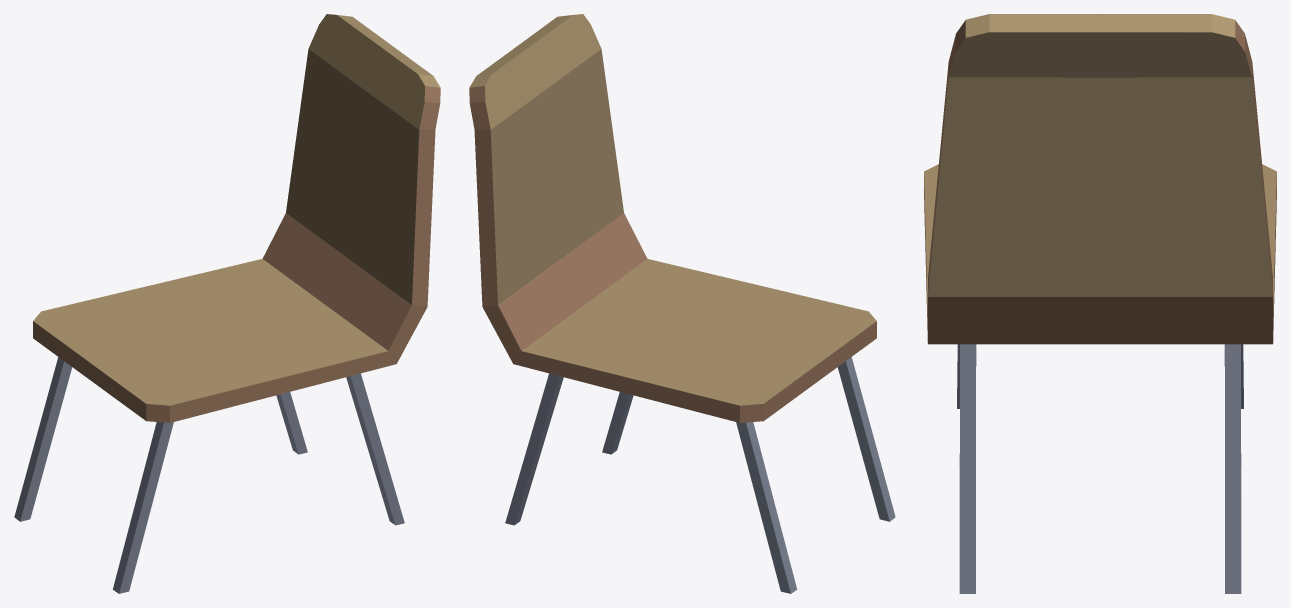
The model's file is Kursi.fbx.
3 views of the same model, side by side, from view 1: azimuth 30°, elevation 25°; view 2: azimuth 150°, elevation 25°; view 3: azimuth 270°, elevation 25° (orthographic). The views are drawn at different scales.
Visible parts, largest first — view 1: 2 Kursi; view 2: 2 Kursi; view 3: 2 Kursi.
Boxes of the visible parts, <box> form: 2 Kursi: <box>14,14,440,593</box>; 2 Kursi: <box>469,14,895,593</box>; 2 Kursi: <box>924,14,1276,593</box>.
Size of the model in its own units: 184 by 234 by 126.
